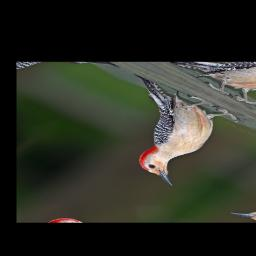Woodpecker: (53, 69, 256, 189)
